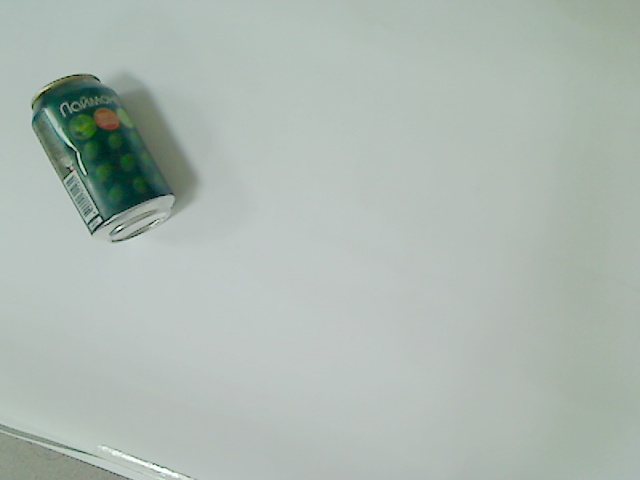can: (28, 70, 180, 248)
